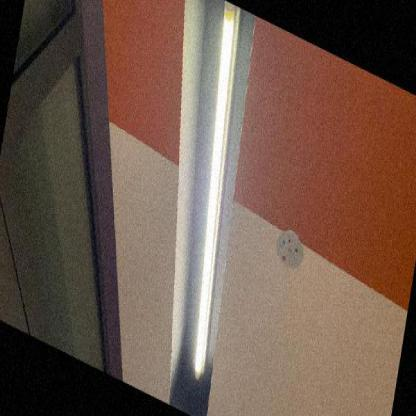light_on: (162, 0, 267, 392)
